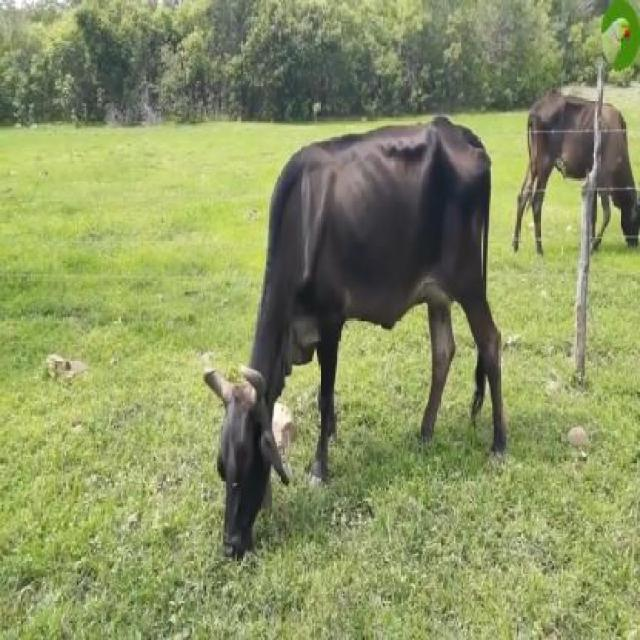Cow: (203, 115, 508, 560), (512, 92, 638, 254)
